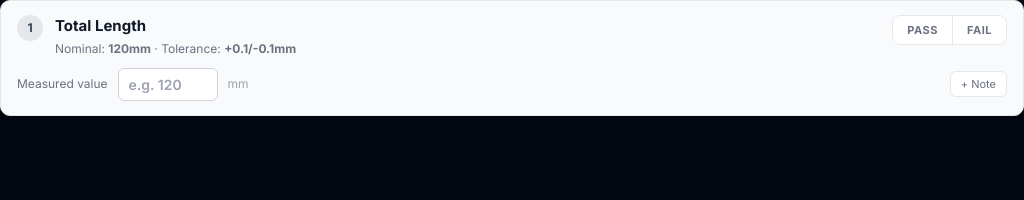
Test: DimensionCheckRow › shows note textarea when add-note clicked
What coordinates should you click on to do the following:
click the button with test id "add-note-btn"
I would click on:
 (978, 84)
Its box is [950,71,1007,97].
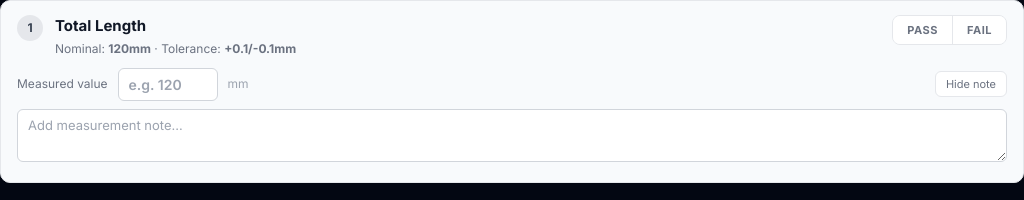
Now the text box with test id "dimension-note-input" is shown, box [17,108,1007,162]
